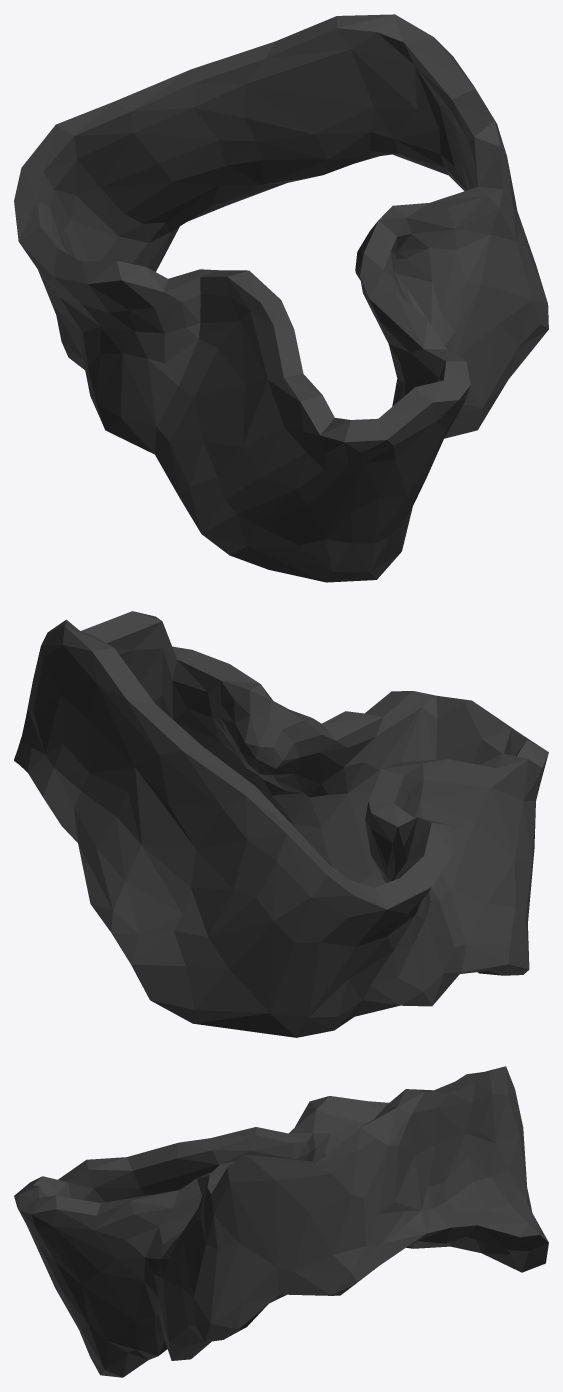
Rendered from Talus_neck.glb.
The picture shows the model from 3 angles, top to bottom: view 1: azimuth 30°, elevation 25°; view 2: azimuth 150°, elevation 25°; view 3: azimuth 270°, elevation 25°; orthographic projection. The views are drawn at different scales.
Parts seen in each view (by area): view 1: Talus_neck; view 2: Talus_neck; view 3: Talus_neck.
Part boxes in pixels (bbox=[...]): Talus_neck: bbox=[14, 14, 548, 582]; Talus_neck: bbox=[14, 611, 548, 1037]; Talus_neck: bbox=[14, 1066, 548, 1377].
Size of the model in its own units: 0.0176 by 0.0158 by 0.022.
Materials: 1 (1 with a texture image).
